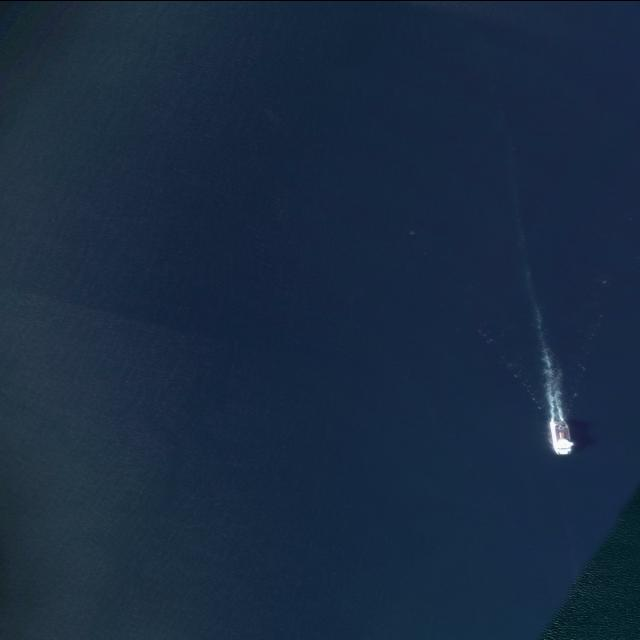ship: (549, 418, 575, 454)
